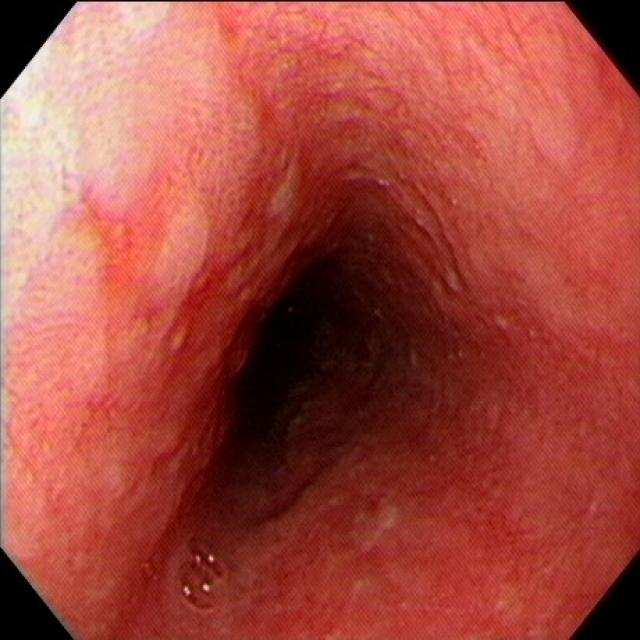A: (242, 114, 311, 247)
E: (232, 262, 388, 458)
T: (178, 536, 229, 613)
